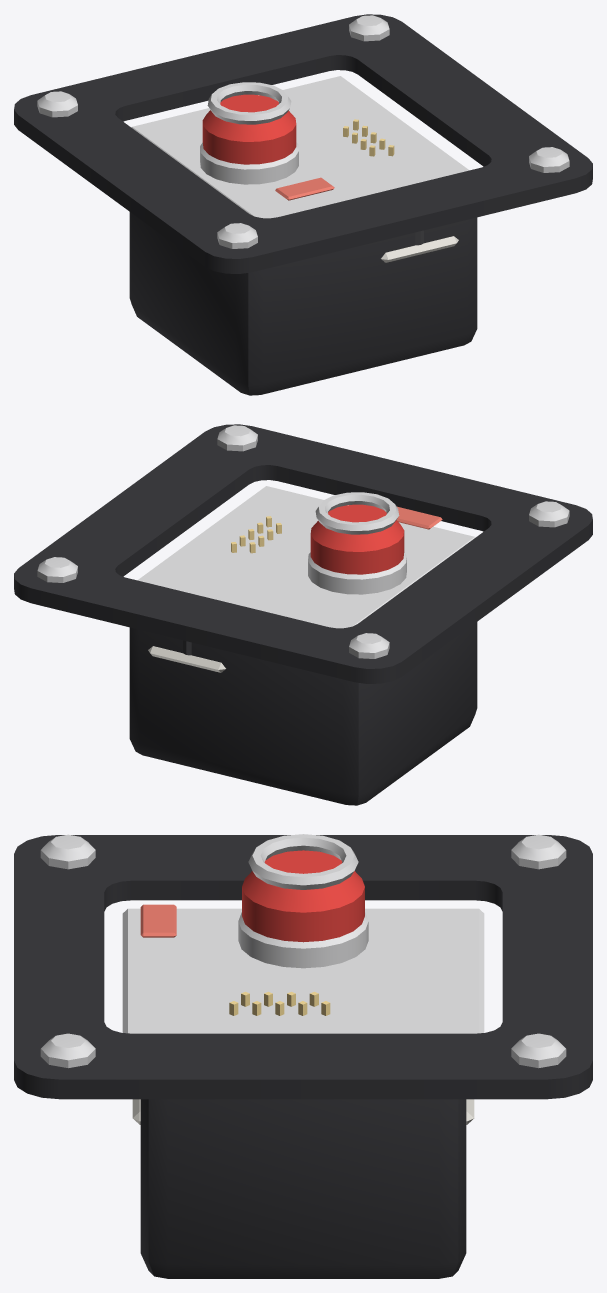
File: access_port_rbf.glb
3 renders of one model, top to bottom at view 1: azimuth 30°, elevation 25°; view 2: azimuth 150°, elevation 25°; view 3: azimuth 270°, elevation 25°, orthographic. The views are drawn at different scales.
Parts seen in each view (by area): view 1: access_port_rbf, rbf_pin; view 2: access_port_rbf, rbf_pin; view 3: access_port_rbf, rbf_pin.
Part boxes in pixels (left/top/right/bottom): access_port_rbf: left=14, top=14, right=592, bottom=395; rbf_pin: left=202, top=82, right=296, bottom=164; access_port_rbf: left=14, top=424, right=592, bottom=805; rbf_pin: left=310, top=492, right=404, bottom=574; access_port_rbf: left=14, top=834, right=592, bottom=1278; rbf_pin: left=242, top=834, right=364, bottom=942.
Size of the model in its own units: 0.032 by 0.0197 by 0.032.
